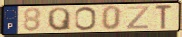0: (100, 5, 124, 32)
8: (23, 7, 44, 33)
O: (74, 6, 97, 31)
Q: (47, 7, 73, 32)
T: (154, 4, 174, 30)
Z: (126, 5, 150, 30)
